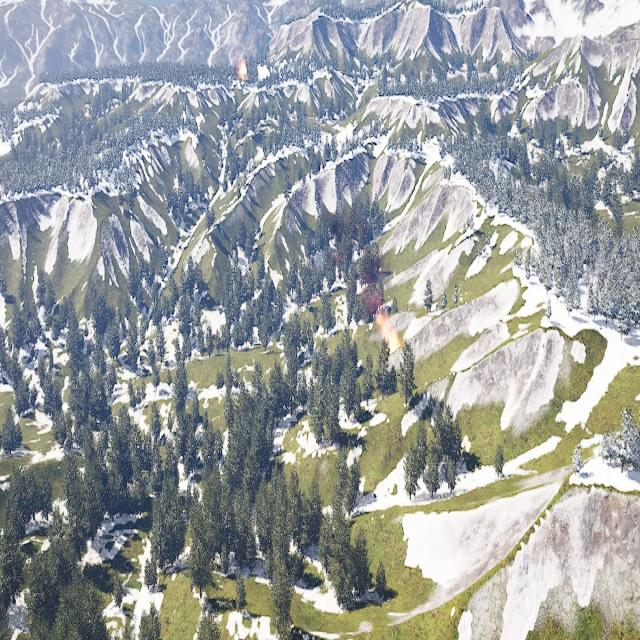fire: (378, 319, 399, 354), (238, 60, 248, 80)
smoke: (355, 273, 384, 321), (232, 15, 254, 59), (484, 0, 523, 20)
